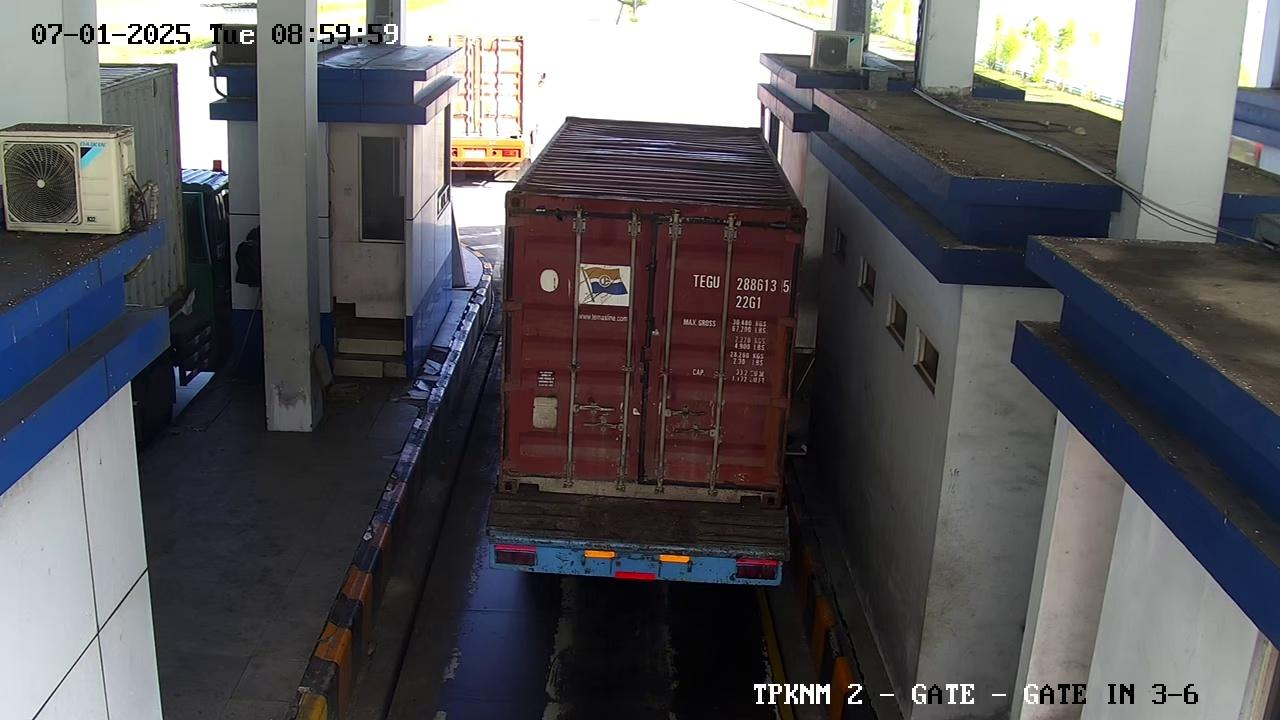plate_number: (679, 266, 798, 293)
